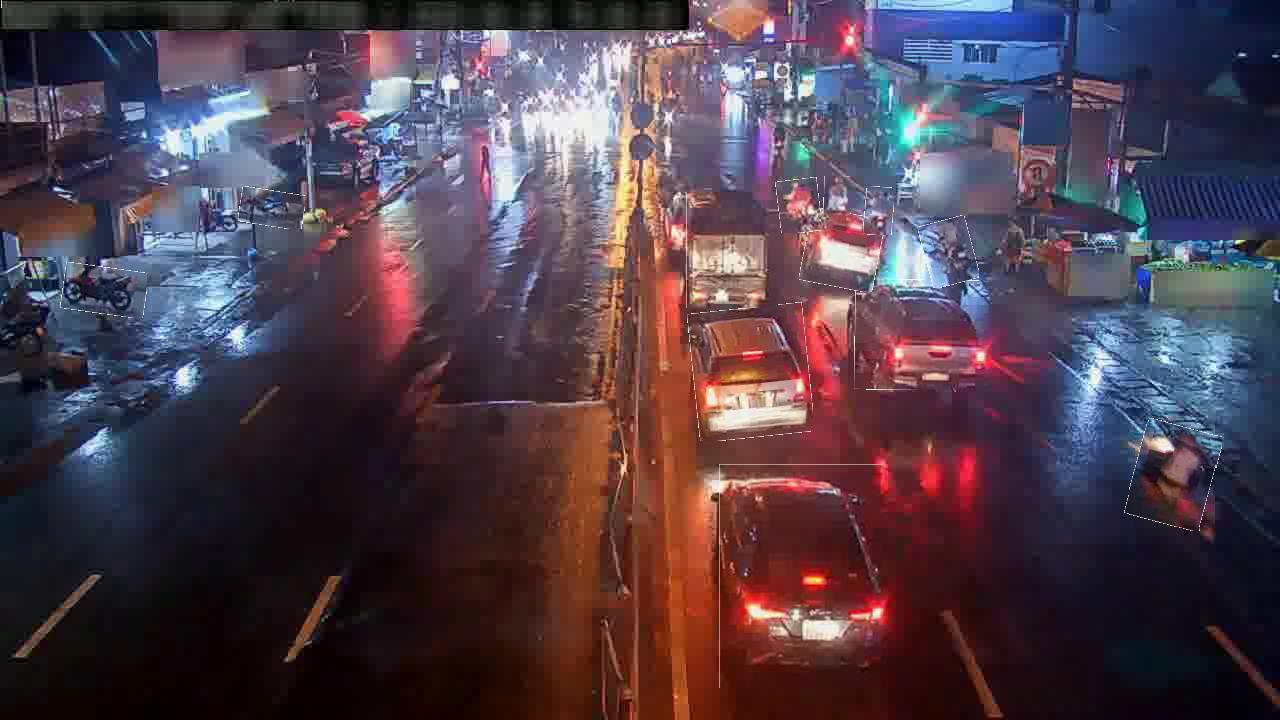8: (686, 195, 779, 309)
container: (719, 464, 884, 689), (690, 305, 811, 440), (855, 280, 990, 391), (802, 210, 882, 290)
motorbike: (1130, 422, 1218, 528), (62, 265, 147, 317), (922, 218, 976, 287), (239, 189, 305, 228), (777, 178, 821, 233), (864, 187, 894, 236), (824, 176, 851, 216)
